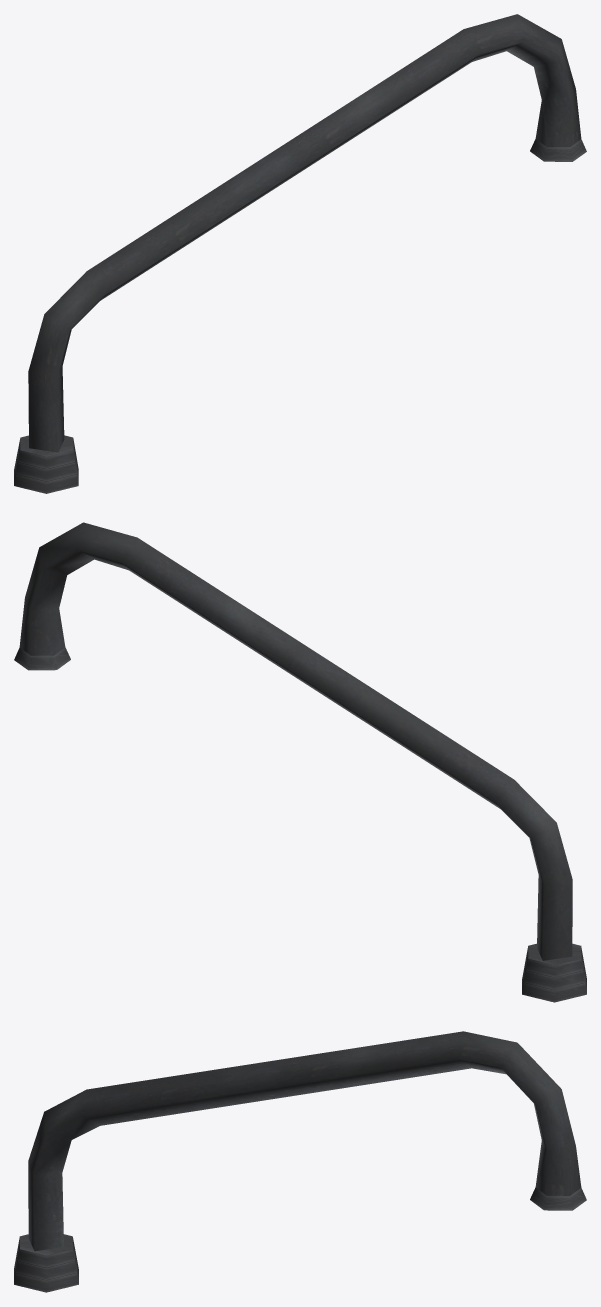
Rendered from p6_kitchen_sink_faucet_nozzle_lod2.glb.
3 renders of one model, top to bottom at view 1: azimuth 30°, elevation 25°; view 2: azimuth 150°, elevation 25°; view 3: azimuth 330°, elevation 25°, orthographic.
Visible parts, largest first — view 1: surf0; view 2: surf0; view 3: surf0.
Boxes of the visible parts, <box> form: surf0: <box>14,14,586,493</box>; surf0: <box>14,522,586,1002</box>; surf0: <box>14,1031,586,1292</box>.
Bounding box in the file's own units: 8.4 × 4.95 × 0.8333.
